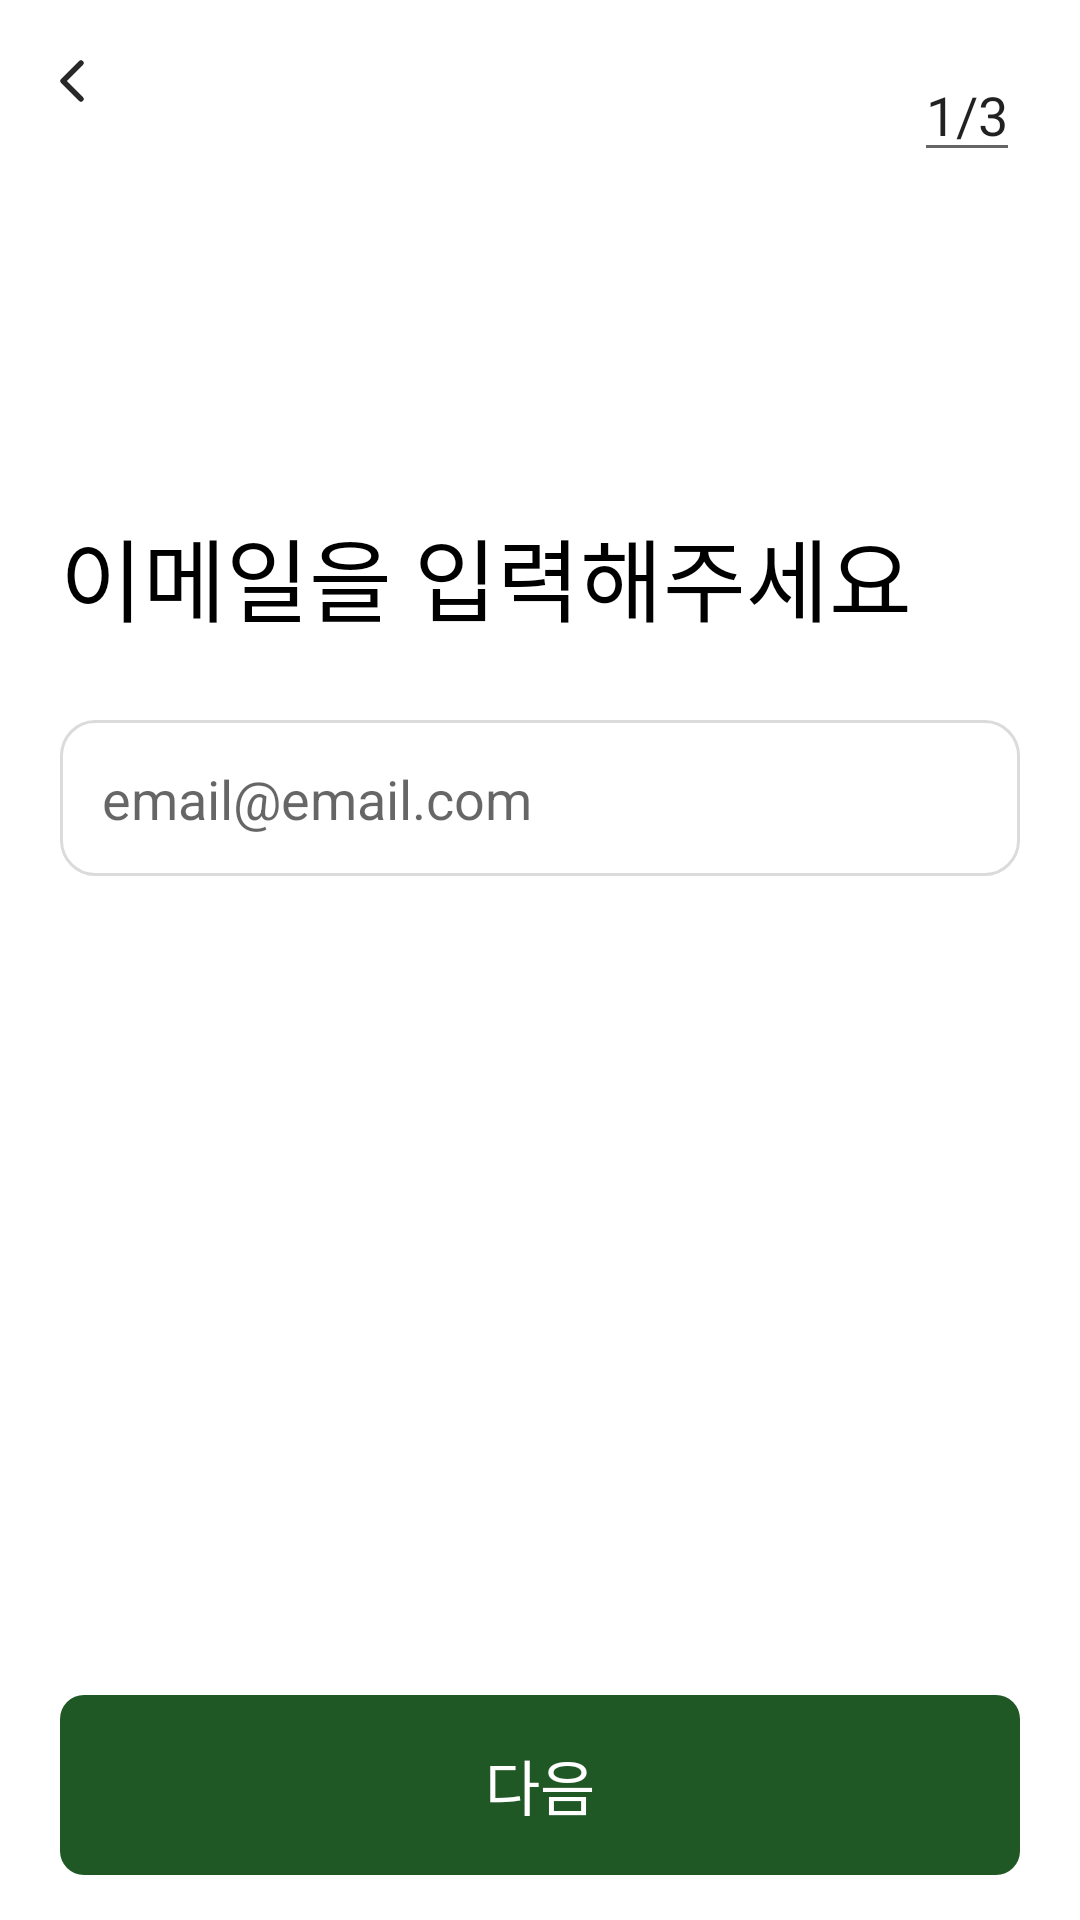

Named icons in this screenshot (1080x1920) and their bounding boxes, {"x1": x1, "y1": y1, "x2": x2, "y2": y2}:
arrow back: {"x1": 60, "y1": 60, "x2": 84, "y2": 102}
